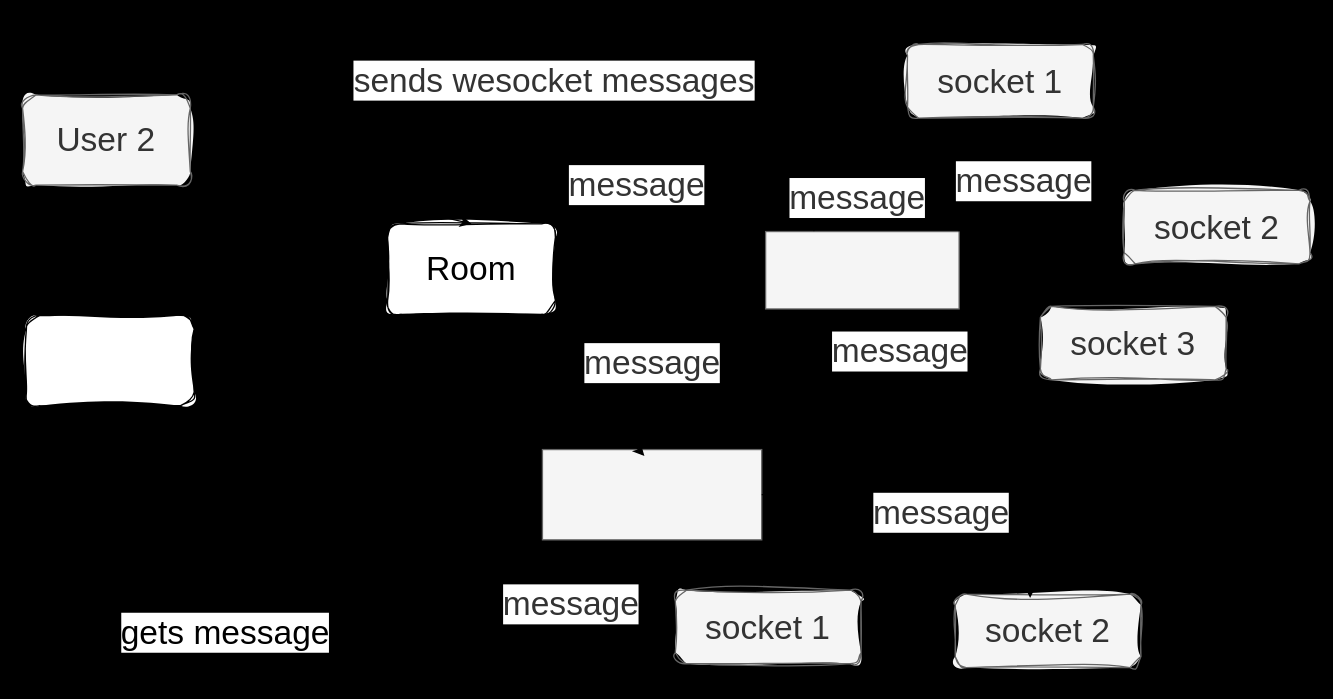
Image size: 1333x699. Some labels were removed from this diagram. Here are the shapes that lost their labels. From the top down, the centre of each, then its label:
the point at 861,269: Session1
the point at 109,360: User 1
the point at 651,494: Session2
